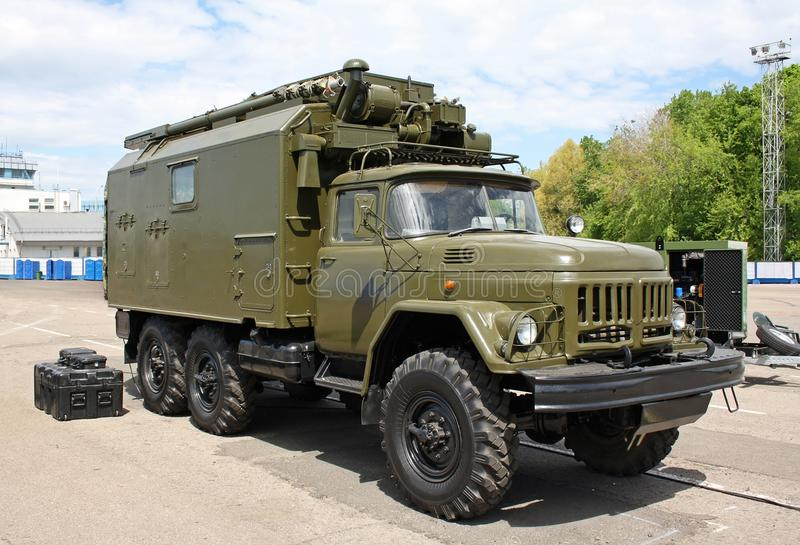camion: (110, 75, 726, 500)
